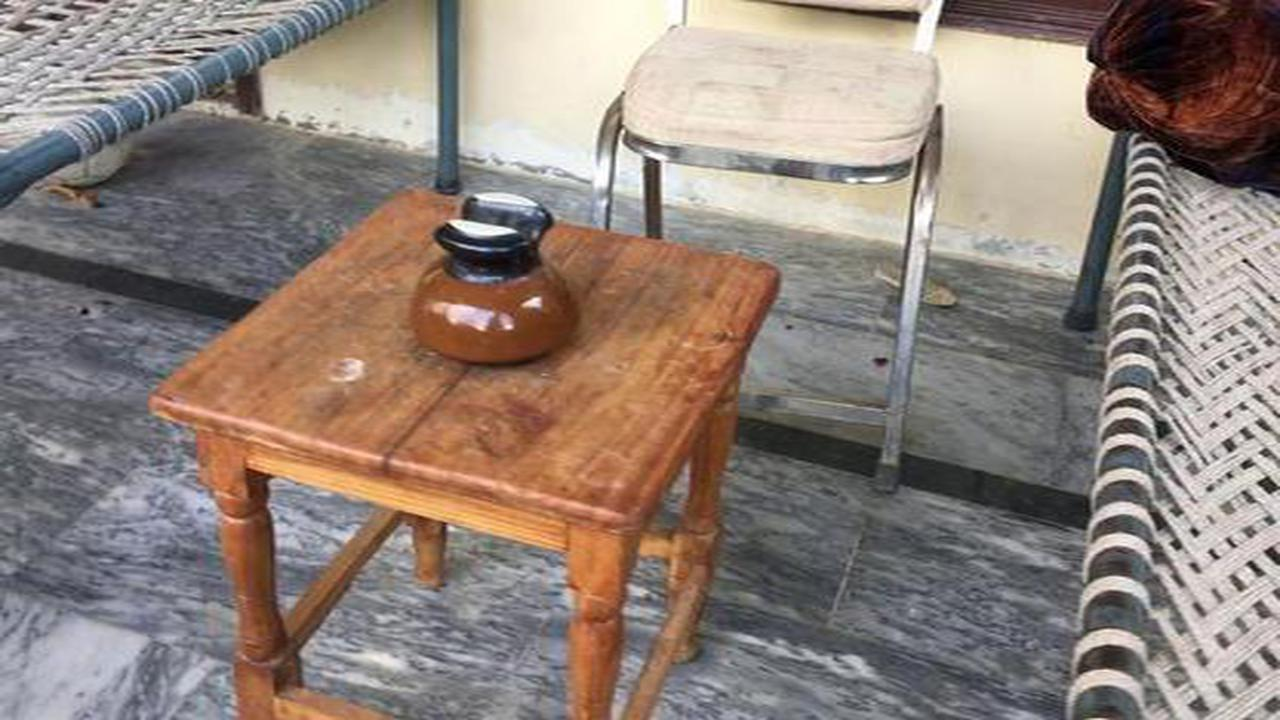insulator_pin: (394, 174, 601, 376)
